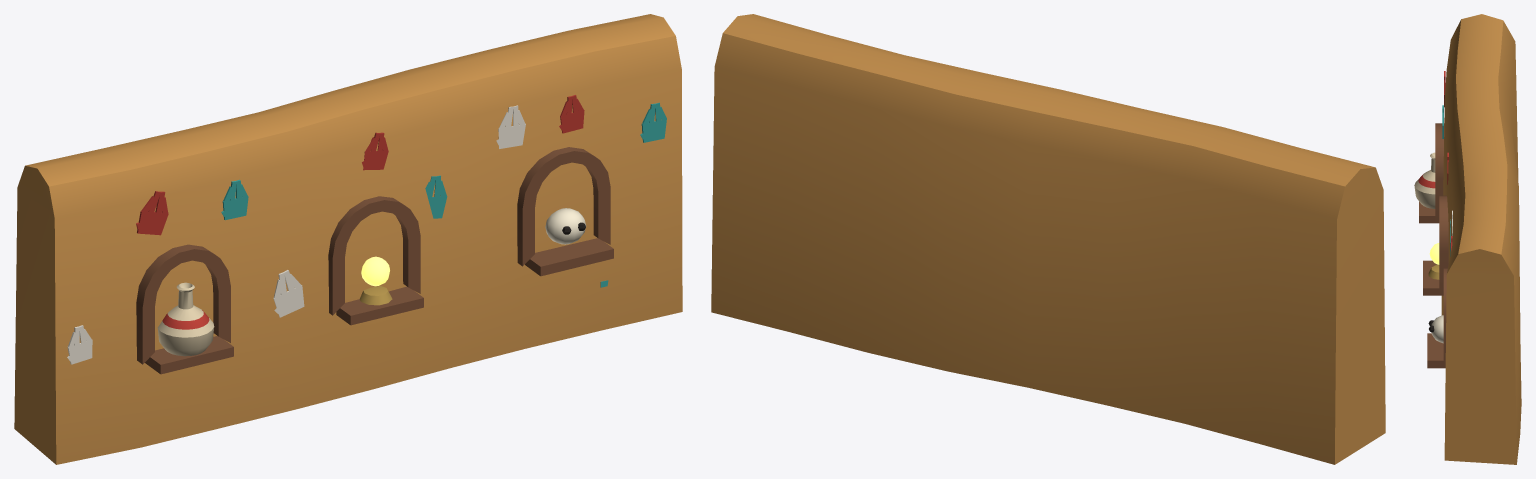
Rendered from deco_ancestor_wall.fbx.
3 renders of one model, left to right at view 1: azimuth 30°, elevation 25°; view 2: azimuth 150°, elevation 25°; view 3: azimuth 270°, elevation 25°, orthographic. The views are drawn at different scales.
Visible parts, largest first — view 1: AncestorWall_Wall, AncestorWall_Niches, AncestorWall_Handprints; view 2: AncestorWall_Wall; view 3: AncestorWall_Wall, AncestorWall_Niches, AncestorWall_Handprints.
Boxes of the visible parts, x1,y1,x2,y2 form: AncestorWall_Wall: (14,14,682,464); AncestorWall_Niches: (136,147,613,374); AncestorWall_Handprints: (67,95,666,364); AncestorWall_Wall: (711,14,1385,464); AncestorWall_Wall: (1441,14,1521,464); AncestorWall_Niches: (1414,123,1448,368); AncestorWall_Handprints: (1442,71,1452,256).
Size of the model in its own units: 343 by 146 by 65.71.
